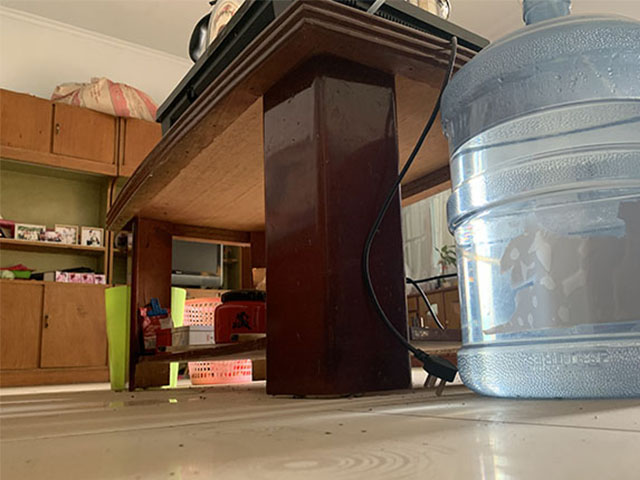cabinet: (1, 276, 104, 389)
table: (102, 1, 440, 400)
trashcan: (104, 284, 187, 392), (184, 295, 255, 386)
wire: (360, 35, 460, 393)
